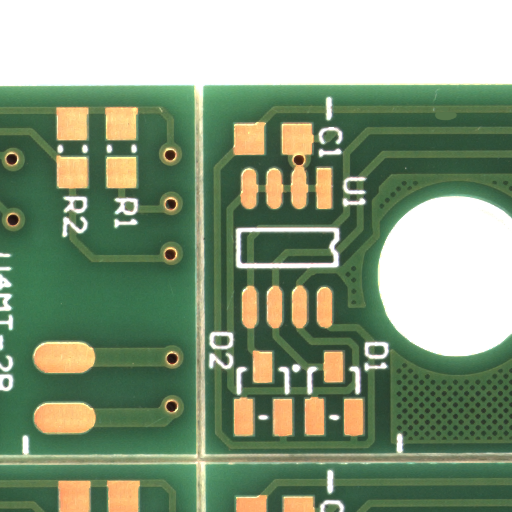Spur: (446, 115, 475, 126)
